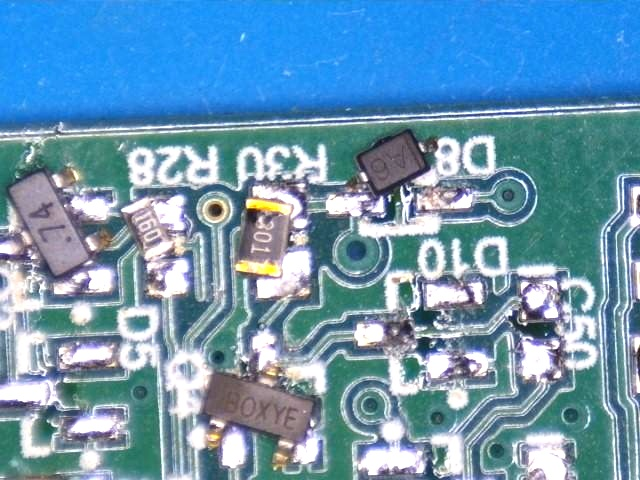pcb_defect: (200, 335, 317, 468), (0, 165, 113, 293), (328, 129, 438, 214), (234, 183, 310, 298), (118, 195, 186, 296)
